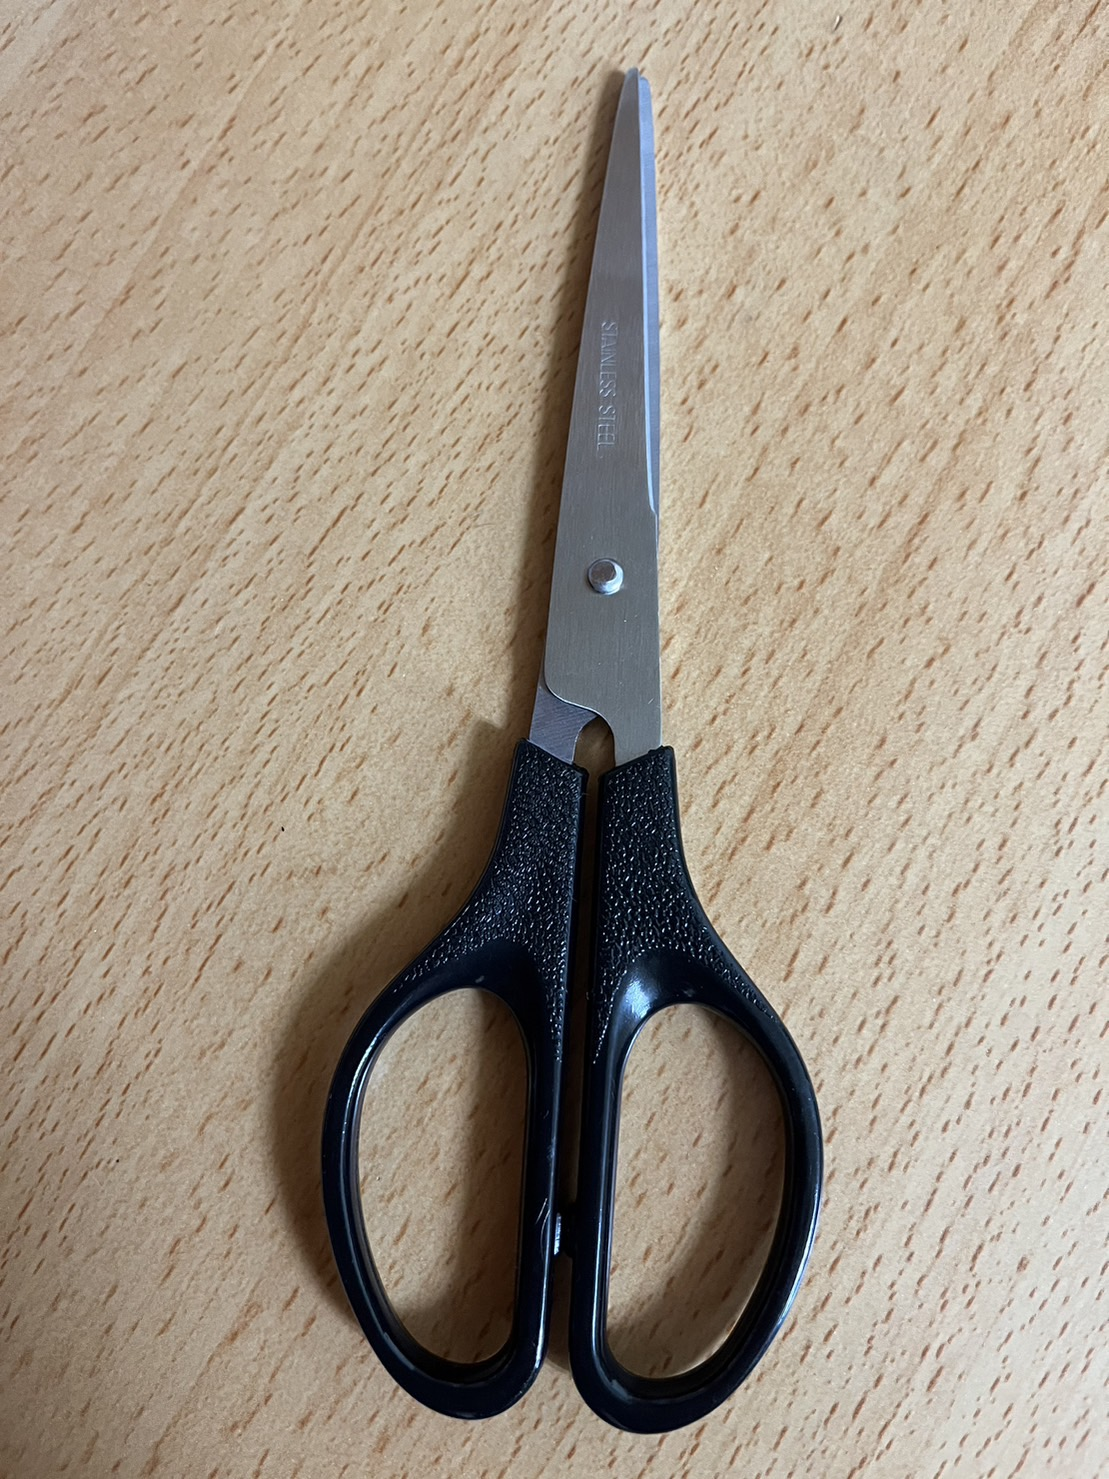scissor: (283, 38, 856, 1448)
